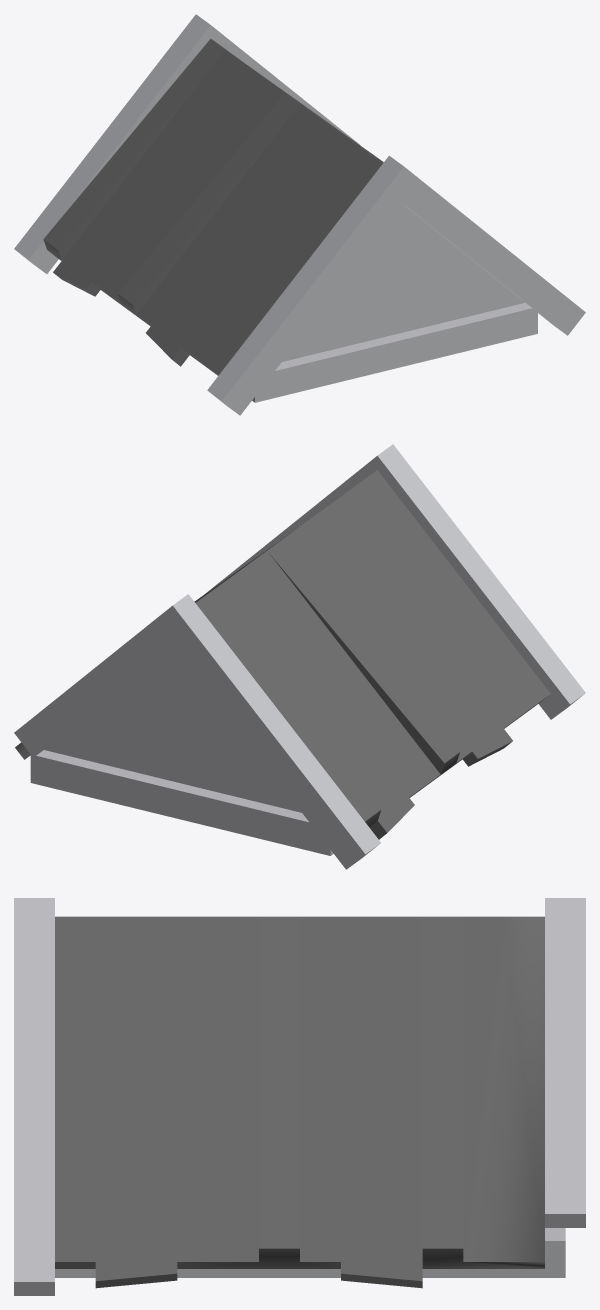
The model's file is Building_Church.fbx.
The picture shows the model from 3 angles, top to bottom: view 1: azimuth 30°, elevation 25°; view 2: azimuth 150°, elevation 25°; view 3: azimuth 270°, elevation 25°; orthographic projection. The views are drawn at different scales.
Visible parts, largest first — view 1: Building_Church_Blue; view 2: Building_Church_Blue; view 3: Building_Church_Blue.
Boxes of the visible parts, x1,y1,x2,y2 form: Building_Church_Blue: (14,14,585,415); Building_Church_Blue: (14,444,585,869); Building_Church_Blue: (14,898,585,1295).
Bounding box in the file's own units: 0.9899 × 0.553 × 0.98.
Materials: 1 (1 with a texture image).
